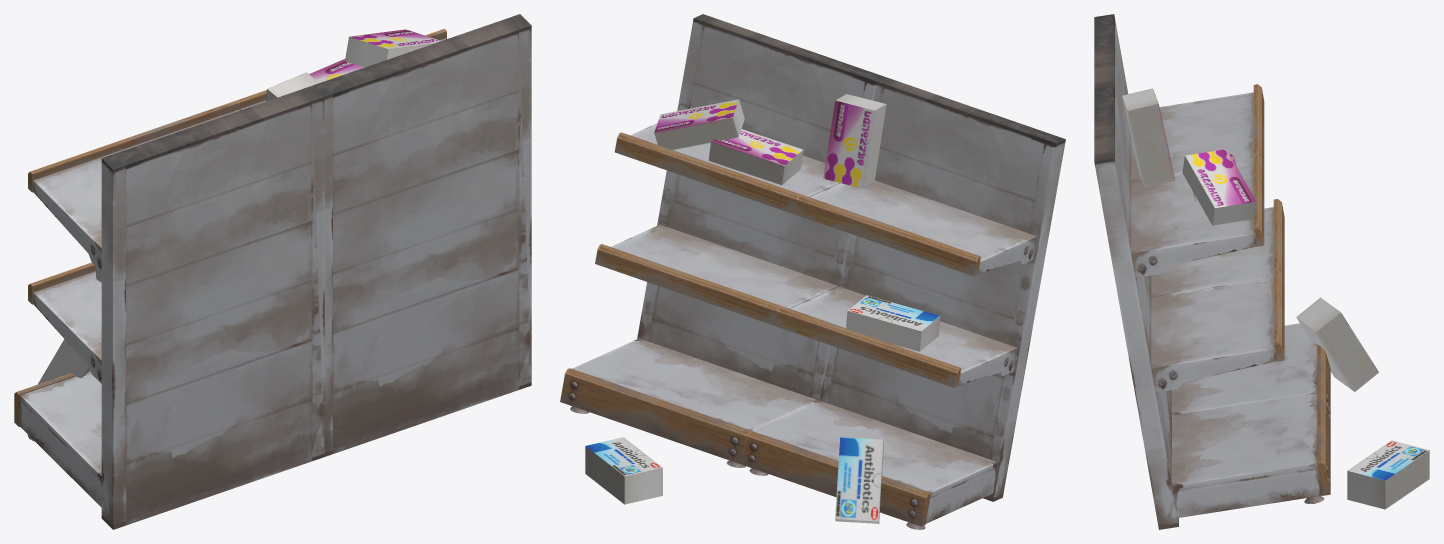
File: P_NEWMaket01_after12.obj
The picture shows the model from 3 angles, left to right: view 1: azimuth 30°, elevation 25°; view 2: azimuth 150°, elevation 25°; view 3: azimuth 270°, elevation 25°; orthographic projection. The views are drawn at different scales.
Size of the model in its own units: 2.13 by 1.97 by 1.52.
8 materials, 8 textured.
